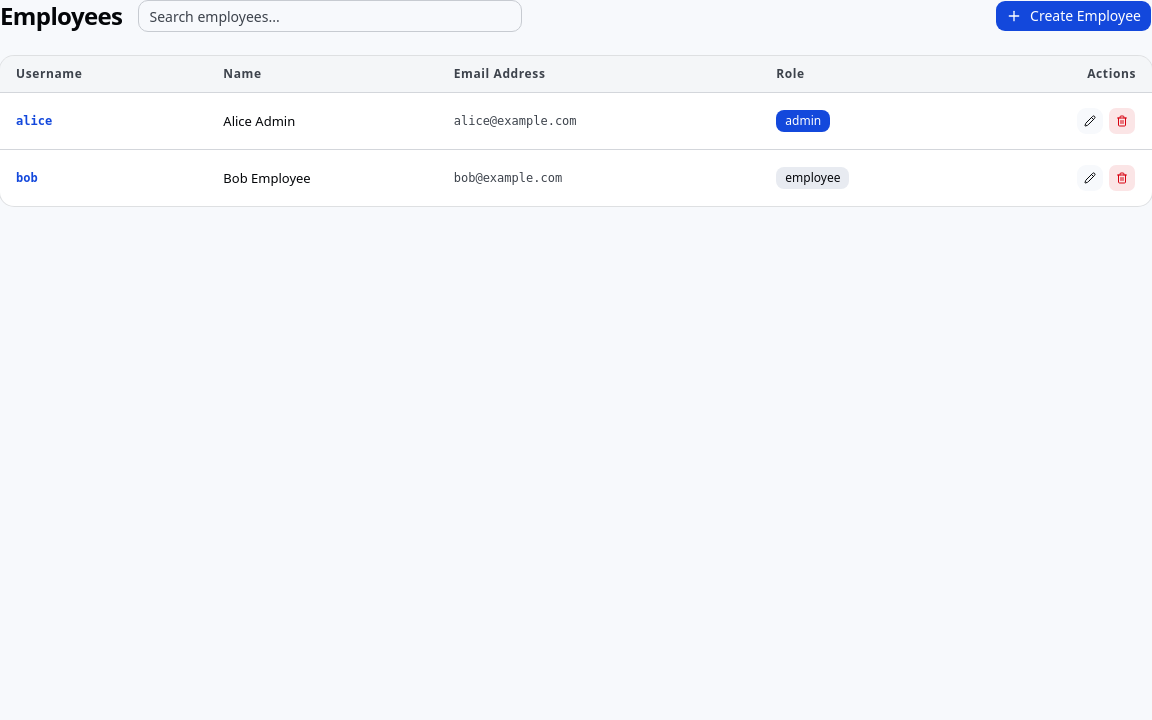
Scenario: EmployeesTable Component › should handle create employee modal X button close
Open Modal
Click the button "Create Employee" at (1074, 16), box [995,0,1151,32]
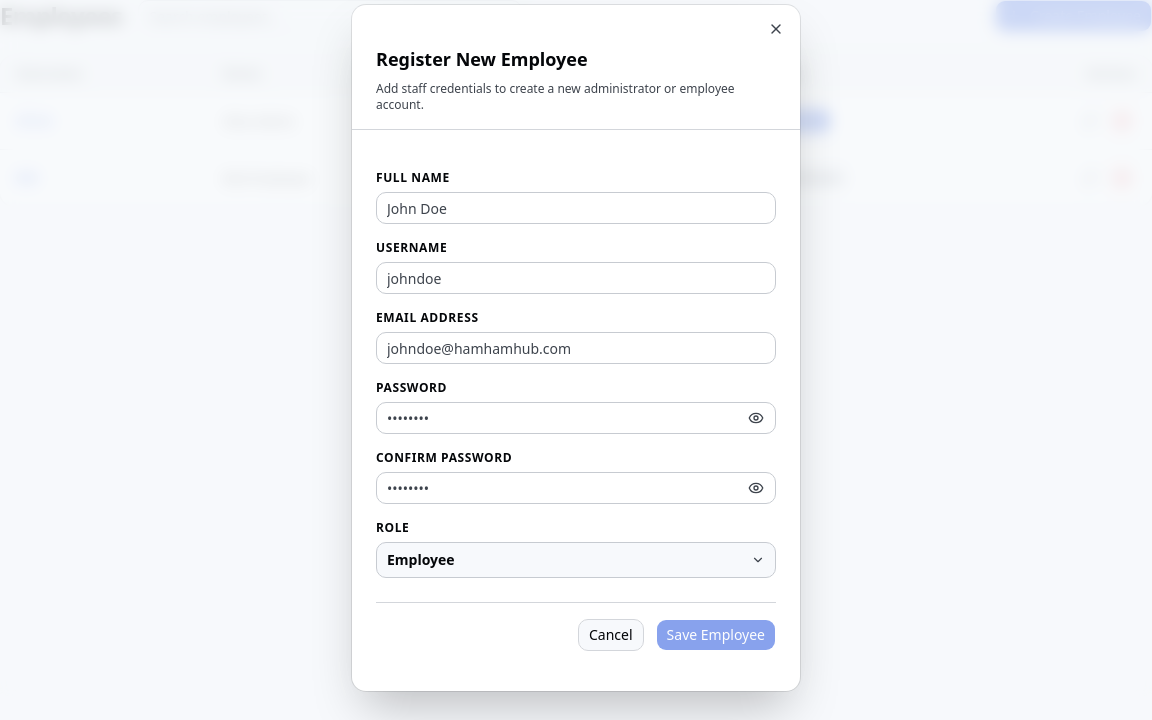
Result: the text "Register New Employee" is shown at [376,47,588,71]
Result: the 1st button is shown
Click the 1st button at (776, 29), box [768,21,784,37]
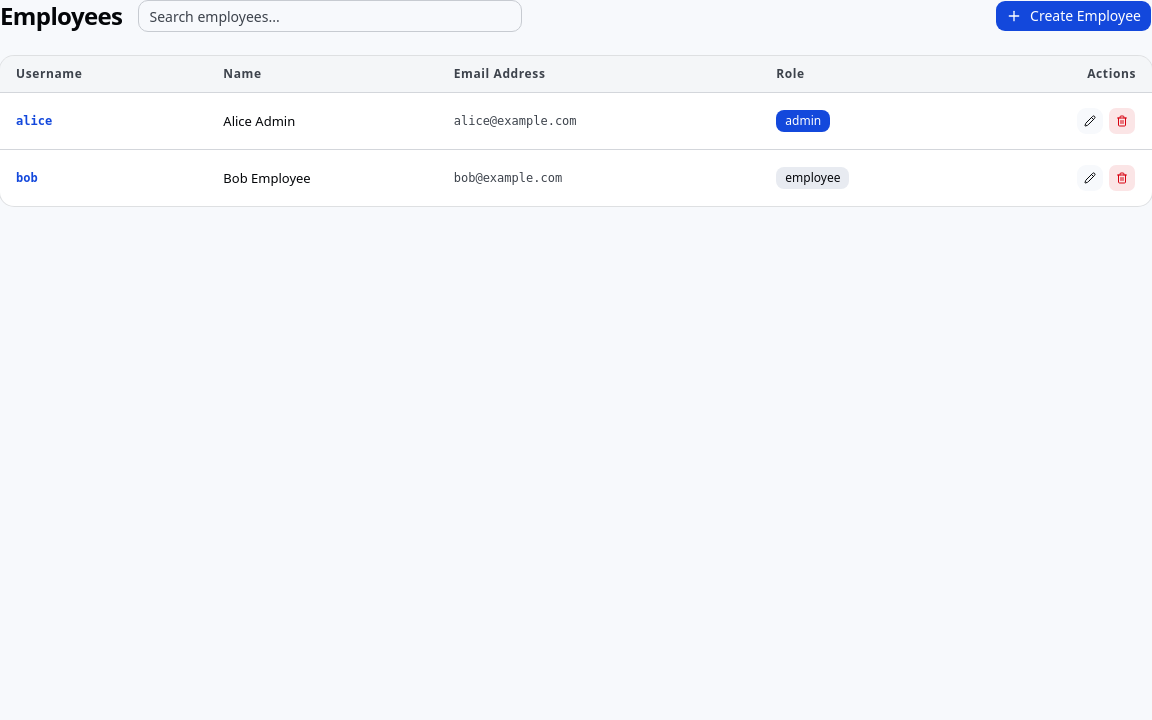
Result: the text "Register New Employee" is gone
